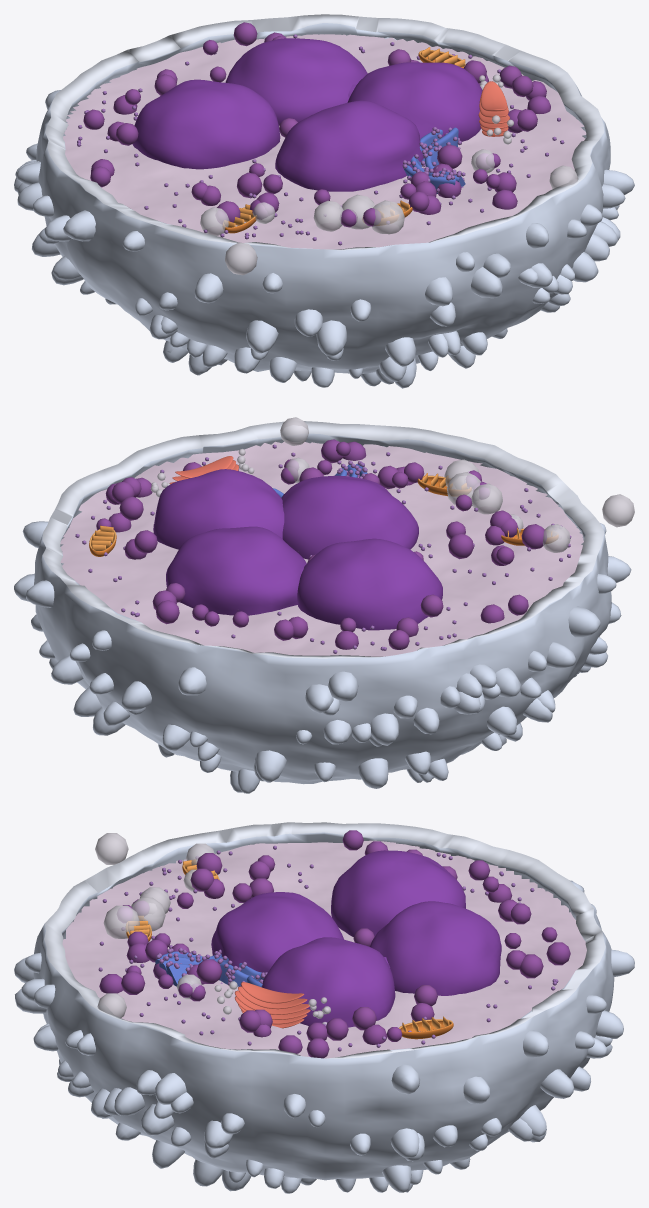
File: leukocyte.glb
3 views of the same model, one above another, from view 1: azimuth 30°, elevation 25°; view 2: azimuth 150°, elevation 25°; view 3: azimuth 270°, elevation 25° (orthographic).
Visible parts, largest first — view 1: membrane, nucleus, cytosol, membrane_ruffles, lysosome, vesicle, ribosomes, golgi, rough-er, rough-er_ribosomes; view 2: membrane, cytosol, nucleus, membrane_ruffles, lysosome, vesicle, ribosomes, golgi; view 3: membrane, cytosol, nucleus, membrane_ruffles, lysosome, vesicle, golgi, rough-er, ribosomes, rough-er_ribosomes, mitochondrion.002, golgi_vesicles.
Boxes of the visible parts, x1,y1,x2,y2 form: membrane: (36,14,610,373); nucleus: (132,38,482,191); cytosol: (63,34,586,249); membrane_ruffles: (14,37,634,388); lysosome: (83,22,550,227); vesicle: (200,149,578,275); ribosomes: (77,34,564,245); golgi: (478,81,509,136); rough-er: (403,127,465,193); rough-er_ribosomes: (402,127,464,192); membrane: (34,421,611,784); cytosol: (60,441,583,656); nucleus: (153,469,442,630); membrane_ruffles: (14,446,631,793); lysosome: (96,439,546,649); vesicle: (280,417,634,552); ribosomes: (75,444,571,653); golgi: (169,456,238,484); membrane: (33,822,614,1180); cytosol: (62,840,586,1058); nucleus: (211,850,501,1027); membrane_ruffles: (14,880,634,1193); lysosome: (99,830,570,1058); vesicle: (95,833,214,1017); golgi: (235,982,310,1028); rough-er: (155,951,264,987); ribosomes: (98,845,558,1051); rough-er_ribosomes: (156,948,267,986); mitochondrion.002: (399,1019,453,1039); golgi_vesicles: (214,981,330,1024).
Bounding box in the file's own units: 6.42 × 2.98 × 6.49.
